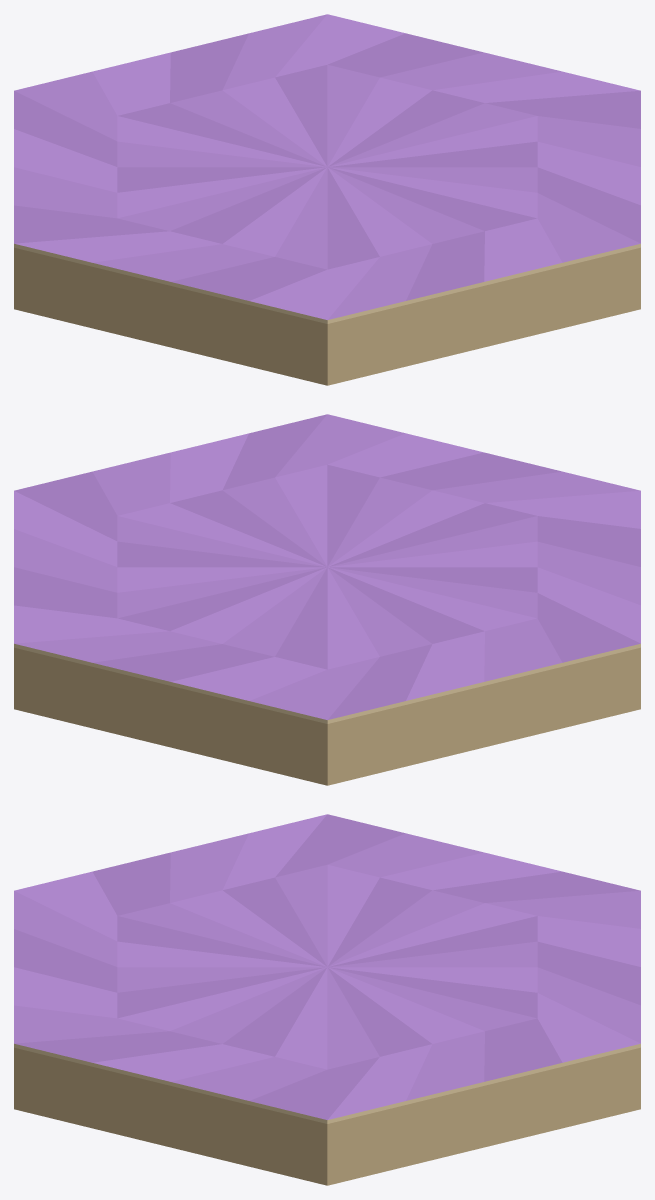
File: terrain.glb
3 views of the same model, one above another, from view 1: azimuth 30°, elevation 25°; view 2: azimuth 150°, elevation 25°; view 3: azimuth 270°, elevation 25° (orthographic).
Visible parts, largest first — view 1: Tile_中心城火车站; view 2: Tile_中心城火车站; view 3: Tile_中心城火车站.
Part boxes in pixels (x1,y1,x2,y2): Tile_中心城火车站: (14, 14, 640, 385); Tile_中心城火车站: (14, 414, 640, 785); Tile_中心城火车站: (14, 814, 640, 1185).
Size of the model in its own units: 2 by 0.2 by 1.73.
